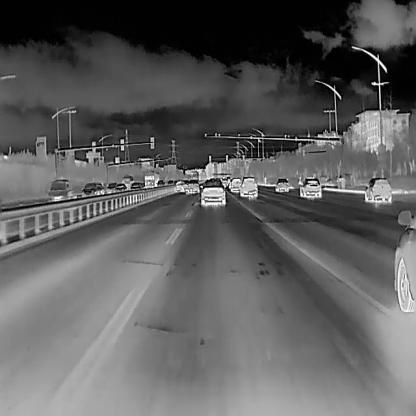car: (364, 175, 393, 204), (199, 177, 224, 206), (48, 178, 72, 201), (298, 177, 322, 199), (238, 176, 257, 197), (80, 181, 98, 199), (142, 172, 159, 188), (120, 173, 134, 191), (274, 177, 289, 193), (173, 178, 188, 192), (187, 178, 200, 194), (229, 176, 242, 192), (106, 181, 119, 195), (130, 181, 143, 194), (114, 182, 126, 193), (156, 178, 165, 188), (166, 178, 174, 187)
